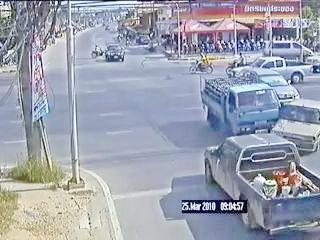Car: (203, 135, 320, 231), (202, 79, 280, 136), (272, 100, 320, 152), (234, 56, 307, 83), (264, 39, 313, 57), (104, 43, 125, 65)
Minor Accident: (202, 78, 320, 152)
Motor: (191, 55, 215, 75), (227, 54, 248, 75)
